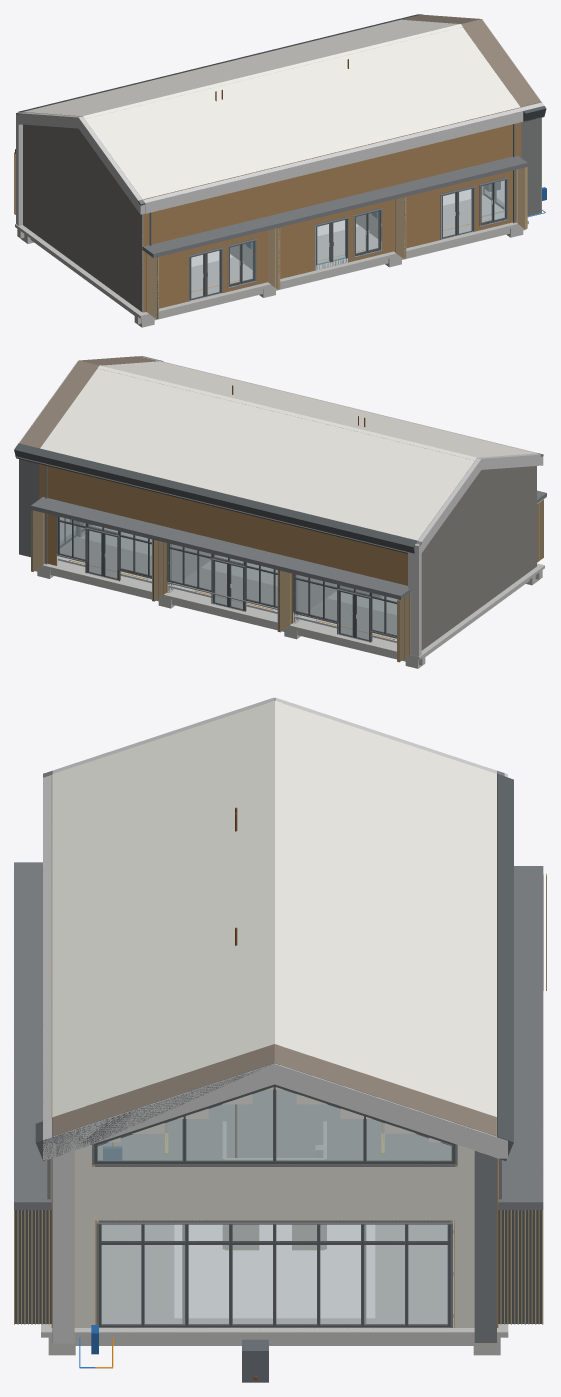
Rendered from Nave1_modelo_completo_PIR_blanco.dae.
3 views of the same model, one above another, from view 1: azimuth 30°, elevation 25°; view 2: azimuth 150°, elevation 25°; view 3: azimuth 270°, elevation 25° (orthographic). The views are drawn at different scales.
Parts seen in each view (by area): view 1: Cara limpia · lateral sur, Cara limpia · fondo, Solei_Solei, Alero#1_Alero, Vísera#2_Vísera (×2), Solei#3_Solei, Cabeza_Cabeza, PR-S · P01, PR-S · P09, PR-S · P11, PR-S · P03, PR-S · P04 (+43 smaller); view 2: Cara limpia · fondo, Cara limpia · lateral norte, Solei_Solei, Vísera#1_Vísera (×2), CENEFA LARGA, Vidriera#1_Vidriera (×4), Vidriera_Vidriera (×3), Divisiones internas (×5), Solei#2_Solei, Vidriera#2_Vidriera (×3), Cabeza_Cabeza, Alero#1_Alero (+46 smaller); view 3: Vidriera#3_Vidriera (×4), Divisiones internas (×3), Cara limpia · frente, Ventana#3_Ventana (×4), Solei_Solei, Vísera#1_Vísera, Vísera#2_Vísera, CENEFA SIMPLE FRONTAL, Cabeza_Cabeza, CENEFA LARGA, Cumbrera, Alero#1_Alero (+47 smaller).
Boxes of the visible parts, <box> form: Cara limpia · lateral sur: <box>143,107,521,312</box>; Cara limpia · fondo: <box>23,112,142,312</box>; Solei_Solei: <box>15,189,528,324</box>; Alero#1_Alero: <box>19,102,544,214</box>; Vísera#2_Vísera (×2): <box>142,155,527,258</box>; Solei#3_Solei: <box>146,167,527,319</box>; Cabeza_Cabeza: <box>403,14,540,106</box>; PR-S · P01: <box>85,114,162,199</box>; PR-S · P09: <box>249,74,326,159</box>; PR-S · P11: <box>290,64,367,149</box>; PR-S · P03: <box>126,104,203,189</box>; PR-S · P04: <box>146,99,224,184</box>; Cara limpia · fondo: <box>418,466,536,650</box>; Cara limpia · lateral norte: <box>39,464,407,623</box>; Solei_Solei: <box>35,524,544,665</box>; Vísera#1_Vísera (×2): <box>31,497,410,599</box>; CENEFA LARGA: <box>14,356,417,553</box>; Vidriera#1_Vidriera (×4): <box>166,543,277,609</box>; Vidriera_Vidriera (×3): <box>294,574,397,636</box>; Divisiones internas (×5): <box>81,526,397,619</box>; Solei#2_Solei: <box>31,510,410,662</box>; Vidriera#2_Vidriera (×3): <box>58,516,151,577</box>; Cabeza_Cabeza: <box>19,356,158,448</box>; Alero#1_Alero: <box>139,356,543,549</box>; Vidriera#3_Vidriera (×4): <box>96,1220,452,1328</box>; Divisiones internas (×3): <box>98,1090,451,1318</box>; Cara limpia · frente: <box>74,1144,474,1327</box>; Ventana#3_Ventana (×4): <box>92,1084,457,1166</box>; Solei_Solei: <box>41,1220,508,1351</box>; Vísera#1_Vísera: <box>498,866,543,1209</box>; Vísera#2_Vísera: <box>14,862,51,1208</box>; CENEFA SIMPLE FRONTAL: <box>52,773,507,1158</box>; Cabeza_Cabeza: <box>52,1044,496,1136</box>; CENEFA LARGA: <box>35,773,513,1161</box>; Cumbrera: <box>267,700,282,1046</box>; Alero#1_Alero: <box>43,697,496,1160</box>.
Size of the model in its own units: 23.36 by 13.8 by 8.98.
